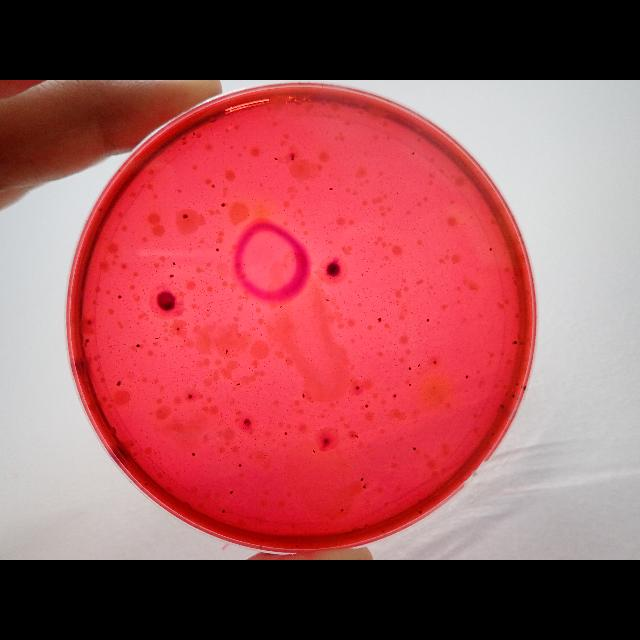colony: (156, 289, 176, 311), (191, 130, 197, 138), (182, 212, 188, 220), (86, 319, 92, 326), (328, 186, 334, 192), (220, 202, 226, 208), (117, 294, 123, 300), (84, 338, 90, 344), (116, 381, 122, 387), (187, 394, 193, 400), (190, 451, 196, 457), (221, 508, 227, 514), (339, 507, 345, 513), (512, 340, 518, 346), (230, 488, 234, 496), (99, 206, 103, 214), (274, 156, 278, 162), (291, 156, 295, 162), (172, 261, 176, 267), (169, 274, 175, 278), (136, 343, 140, 349), (144, 482, 150, 486), (360, 476, 364, 482), (363, 484, 367, 490), (412, 447, 418, 451), (323, 438, 327, 444), (432, 360, 436, 366), (464, 374, 468, 380), (511, 393, 515, 399), (489, 246, 493, 252), (225, 348, 229, 354), (235, 382, 241, 386), (238, 464, 242, 468), (260, 538, 264, 542), (418, 510, 422, 514), (355, 434, 359, 438), (312, 449, 316, 453), (284, 431, 288, 435), (364, 404, 368, 408), (356, 386, 360, 390), (393, 394, 397, 398), (408, 383, 412, 387), (408, 366, 412, 370), (411, 151, 415, 155), (378, 318, 382, 322), (325, 298, 329, 302), (244, 420, 248, 424), (302, 392, 304, 398), (426, 318, 429, 322), (296, 544, 298, 548), (382, 530, 384, 534), (418, 364, 420, 368), (502, 404, 504, 408), (492, 432, 494, 436), (516, 382, 518, 386), (279, 306, 283, 308), (154, 337, 158, 339)
